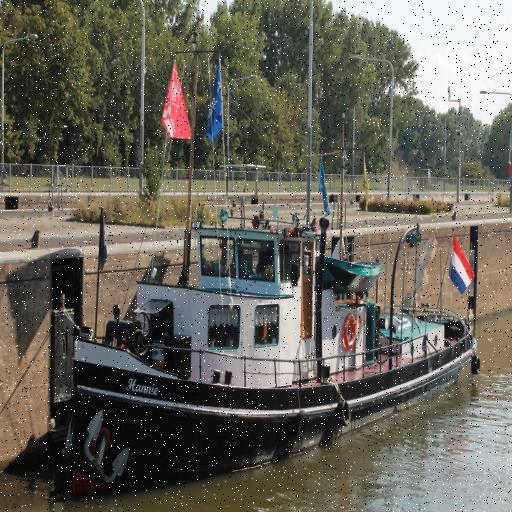tugboat: (51, 208, 481, 509)
